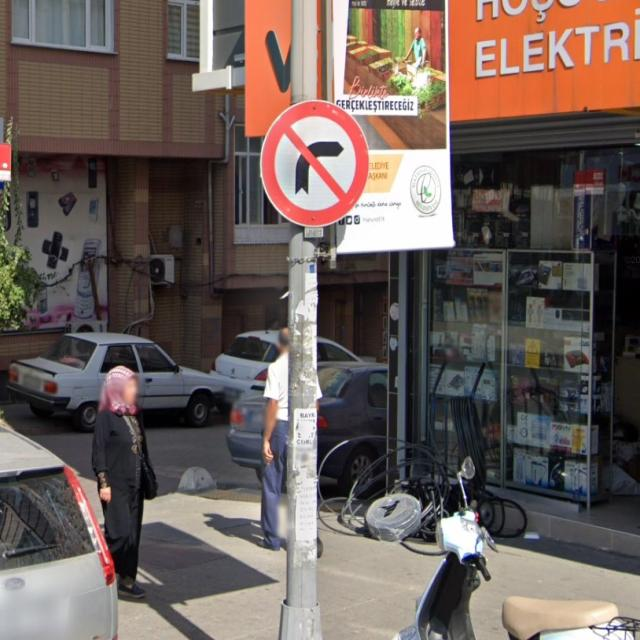sagadonulmez: (261, 99, 370, 228)
